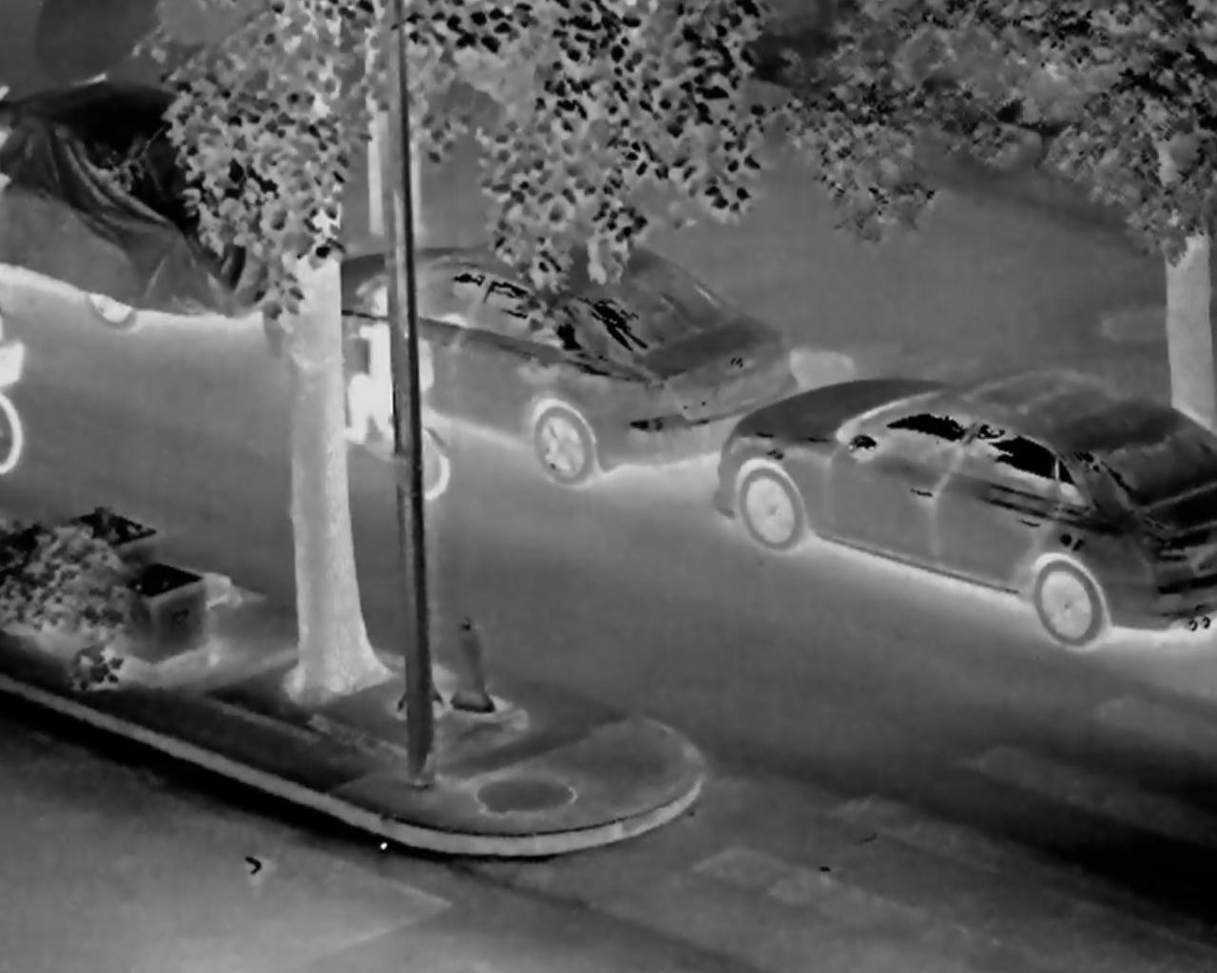person: (334, 277, 440, 484)
